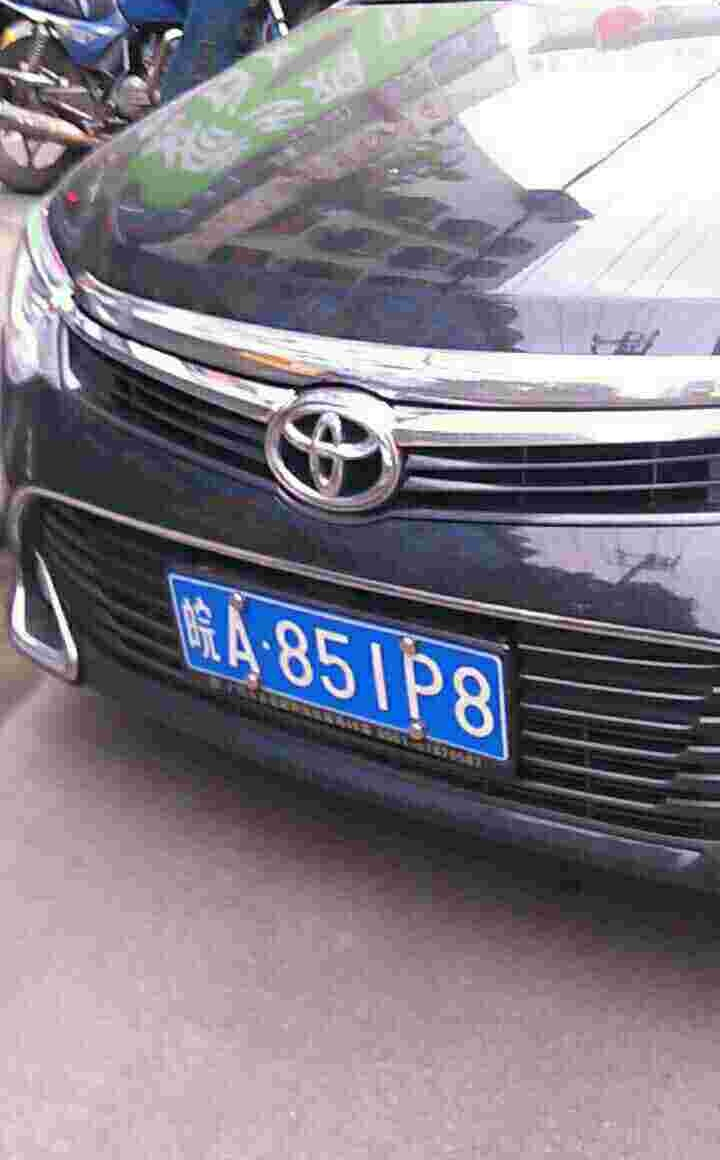license_plate: (167, 565, 508, 753)
